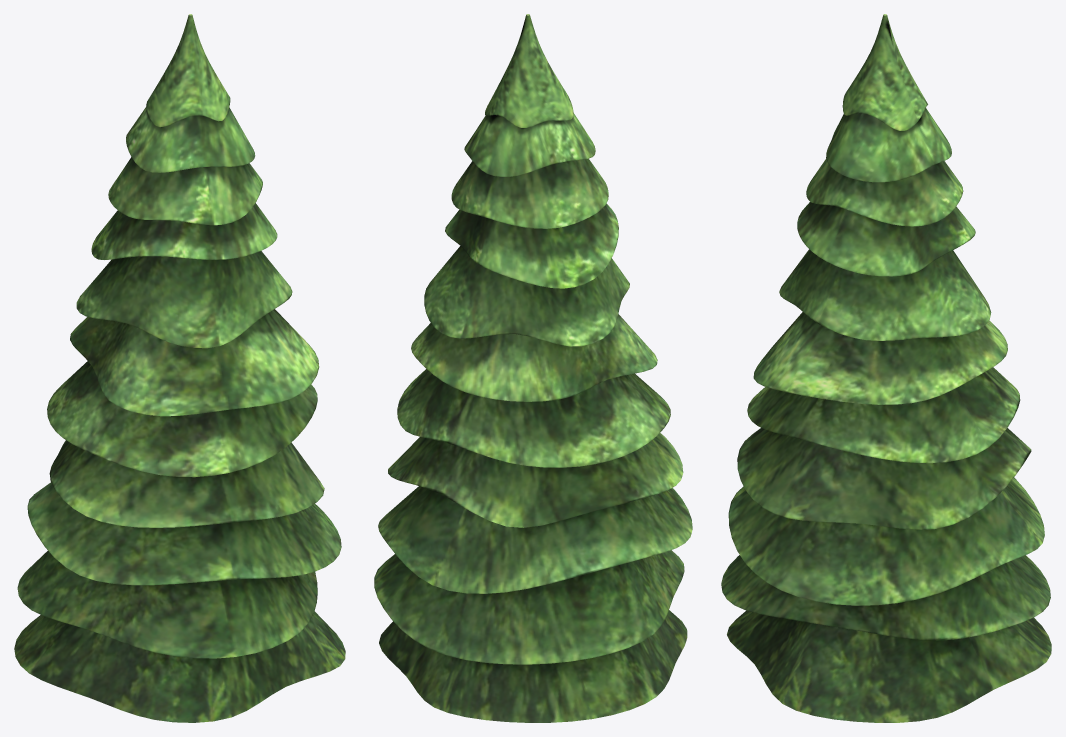
File: low-poly-pine.glb
The picture shows the model from 3 angles, left to right: view 1: azimuth 30°, elevation 25°; view 2: azimuth 150°, elevation 25°; view 3: azimuth 270°, elevation 25°; orthographic projection.
Visible parts, largest first — view 1: 10447_Pine_Tree_v1_L3b; view 2: 10447_Pine_Tree_v1_L3b; view 3: 10447_Pine_Tree_v1_L3b.
Boxes of the visible parts, x1,y1,x2,y2 form: 10447_Pine_Tree_v1_L3b: (14, 14, 345, 722); 10447_Pine_Tree_v1_L3b: (374, 14, 692, 722); 10447_Pine_Tree_v1_L3b: (721, 14, 1051, 722).
Bounding box in the file's own units: 20.58 × 47.84 × 21.07.
1 material, 1 textured.
